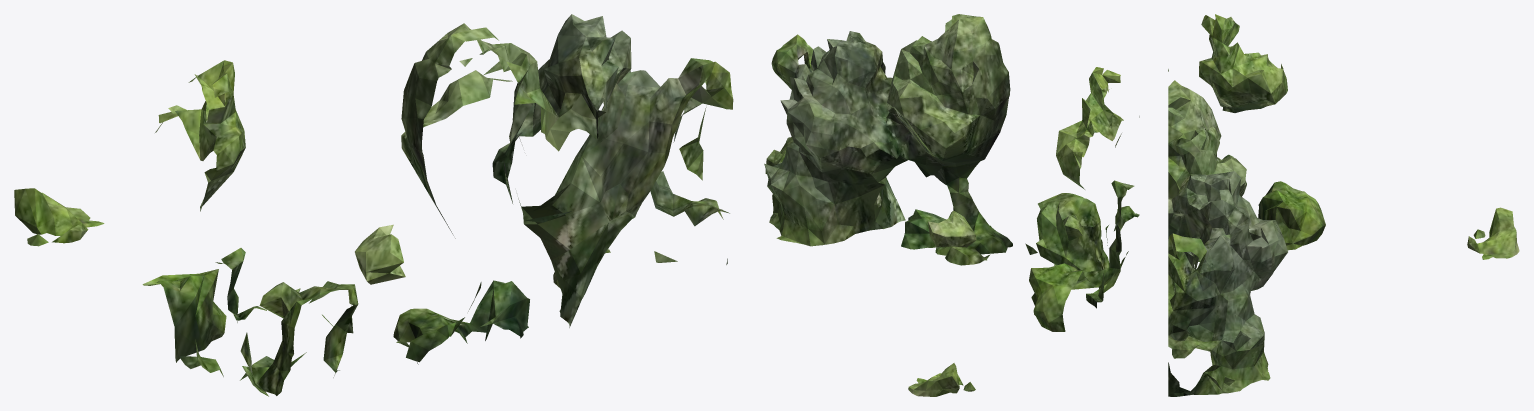
3 views of the same model, side by side, from view 1: azimuth 30°, elevation 25°; view 2: azimuth 150°, elevation 25°; view 3: azimuth 270°, elevation 25° (orthographic). The views are drawn at different scales.
Bounding box in the file's own units: 26.11 × 15.97 × 22.76.
3 materials, 3 textured.
